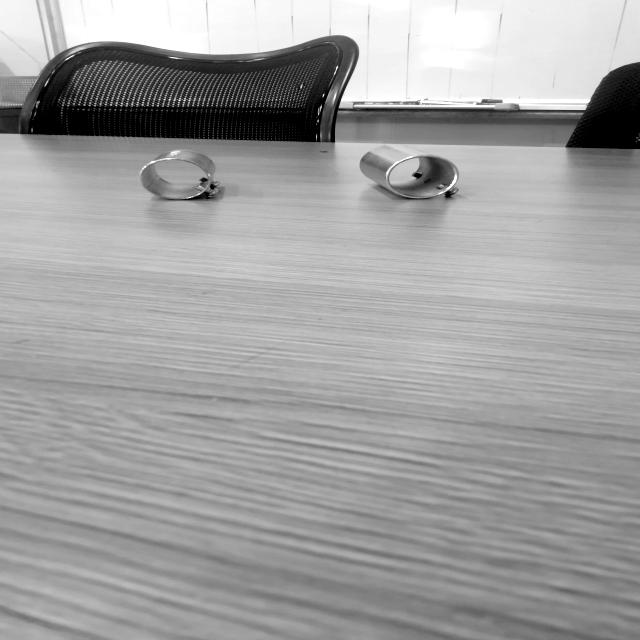Co_Lon: (354, 134, 467, 212)
Co_Nho: (138, 147, 219, 203)
